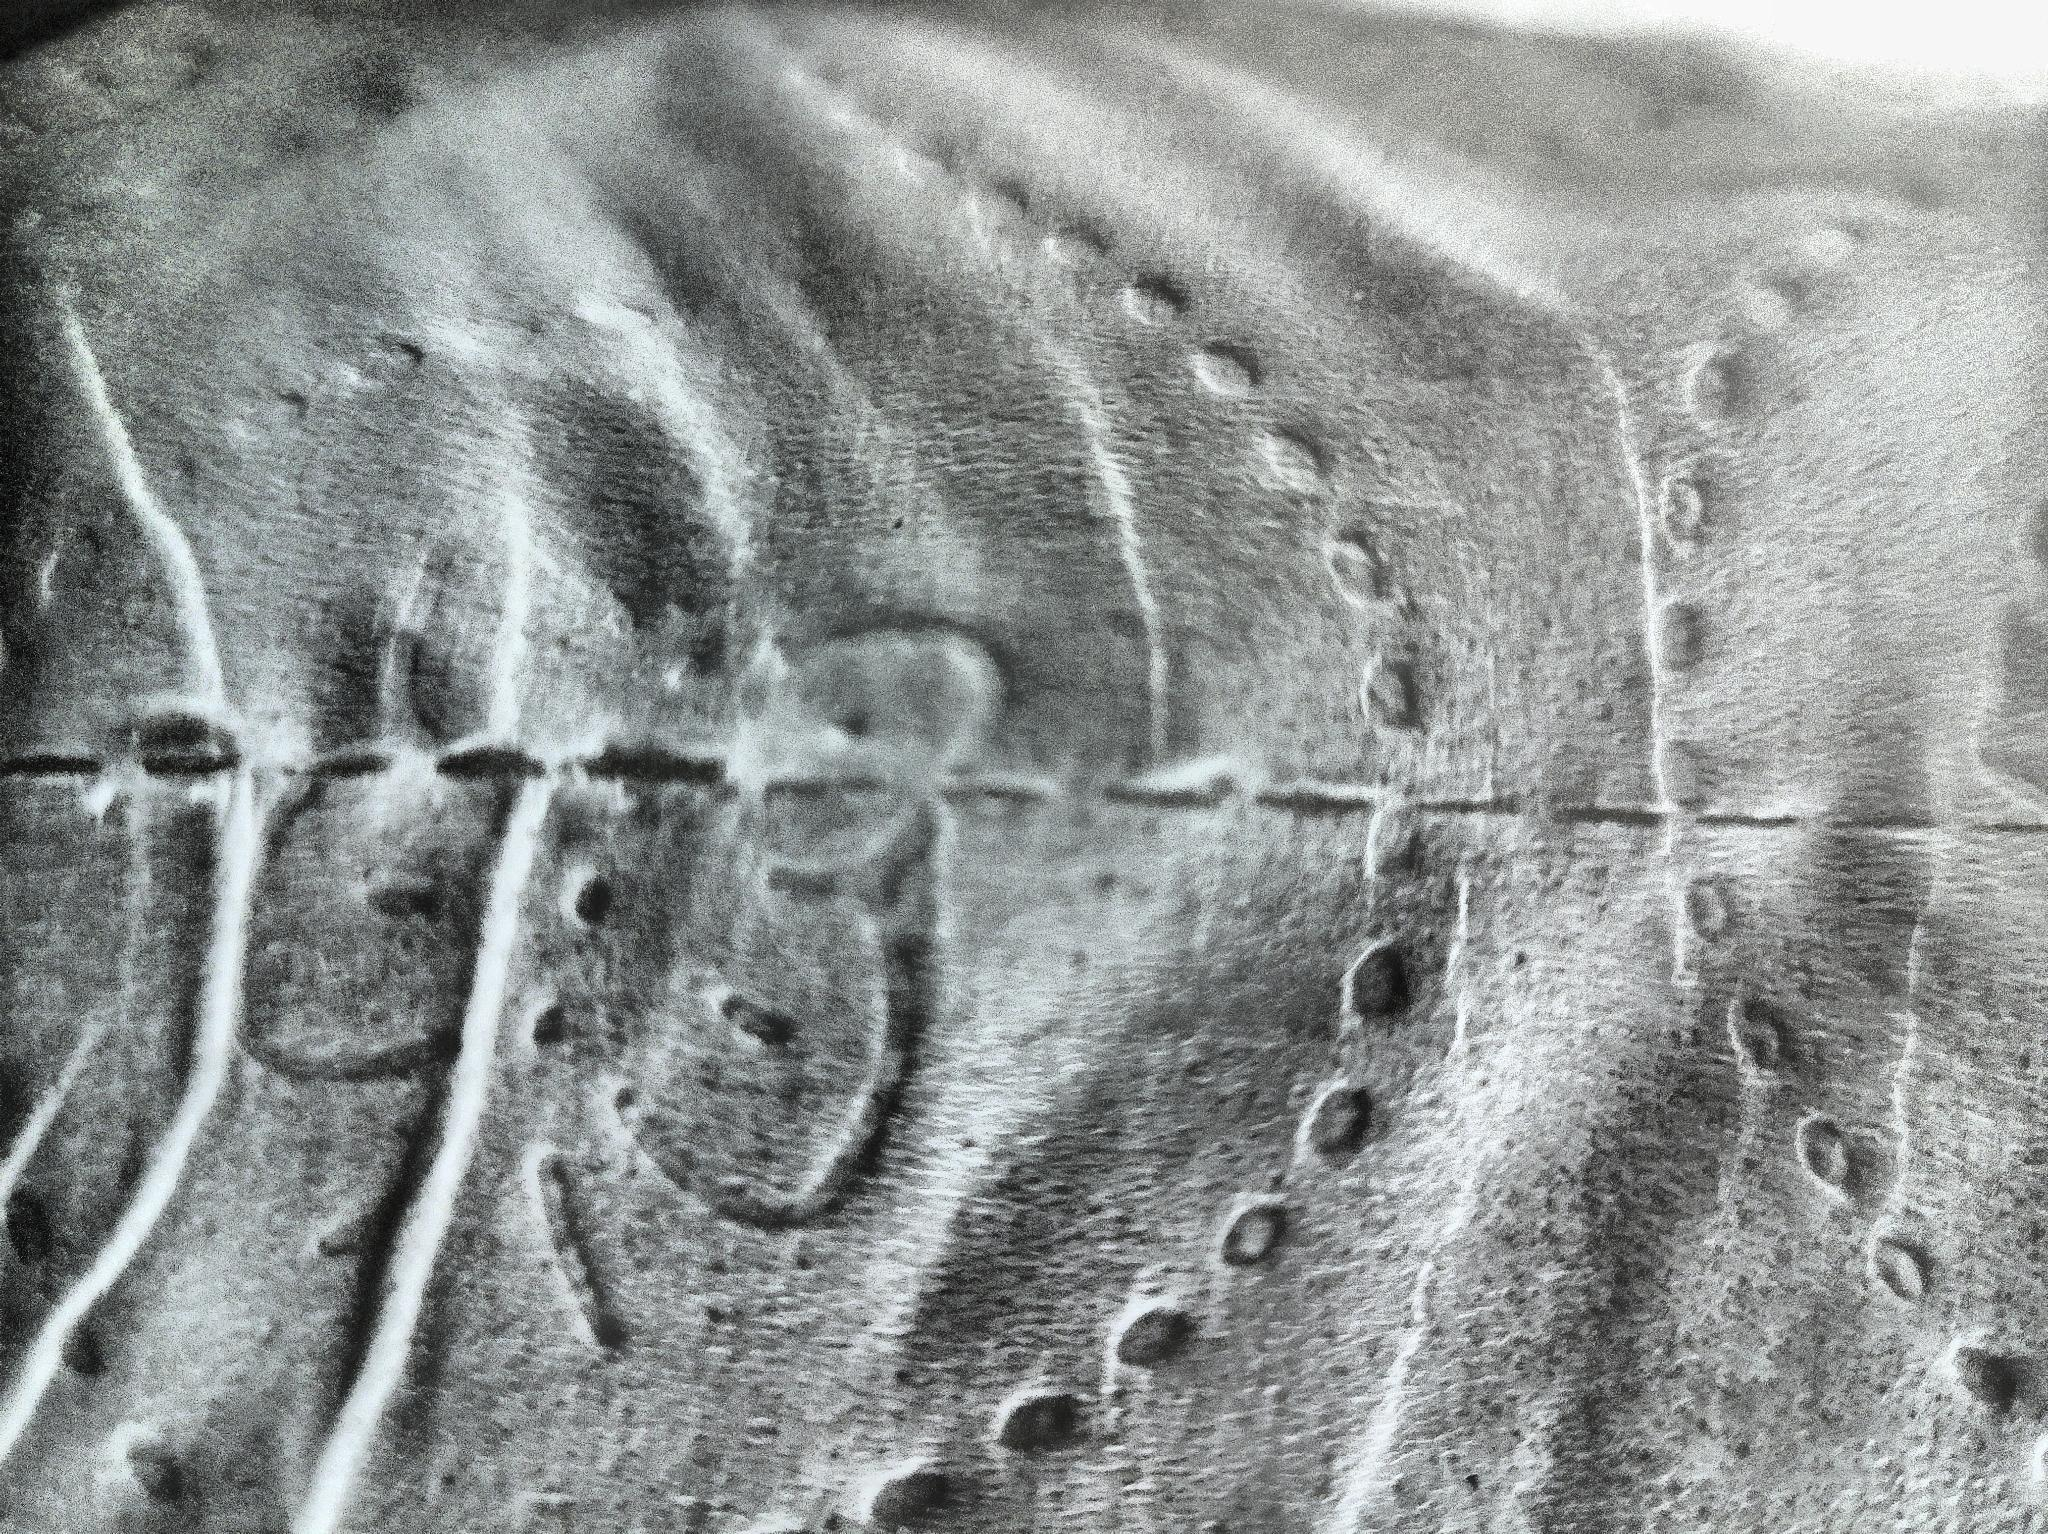seam: (2, 732, 2048, 866)
